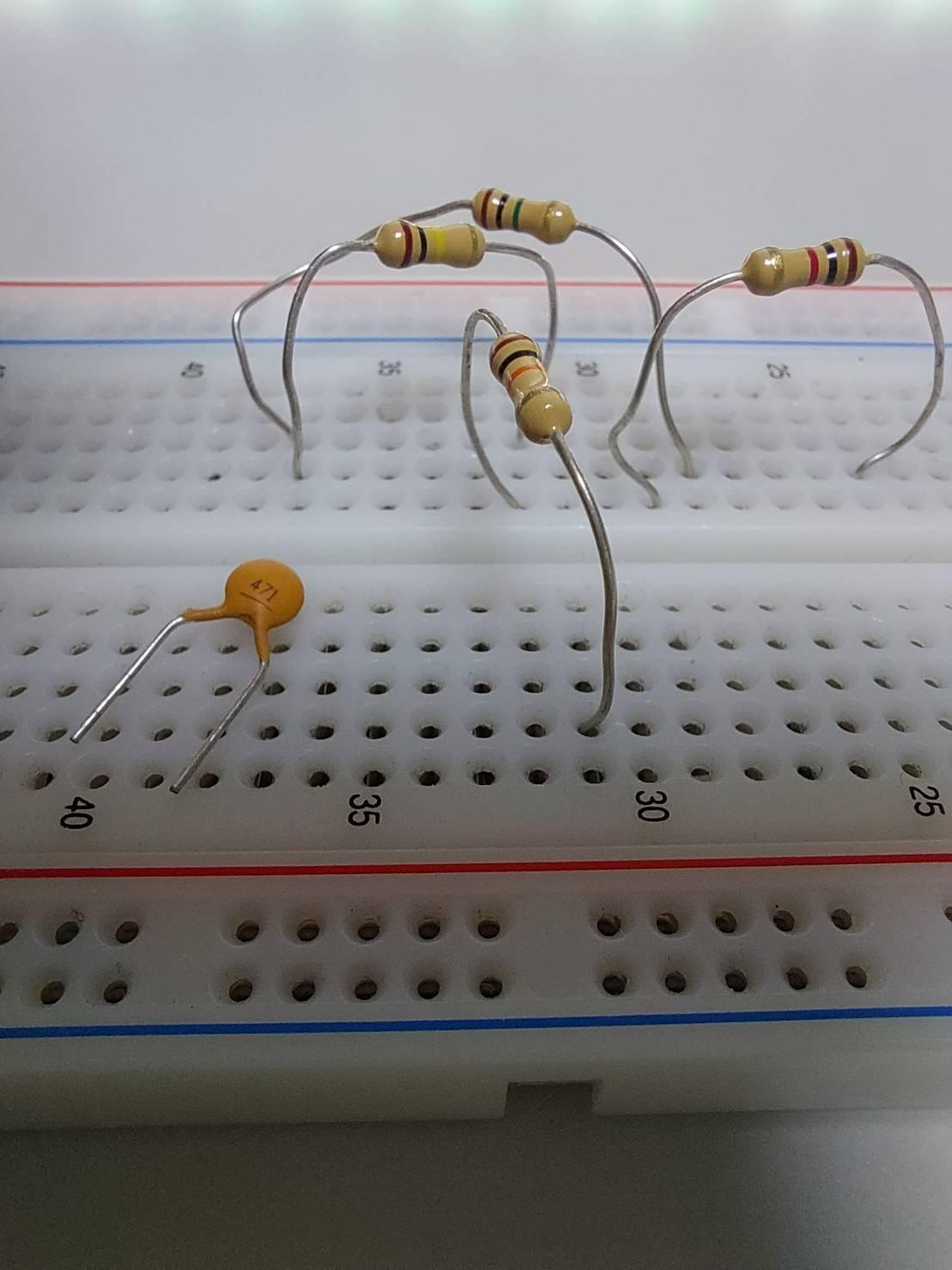resistor: (486, 330, 581, 442), (734, 240, 873, 294), (468, 181, 581, 242), (368, 216, 489, 268)
